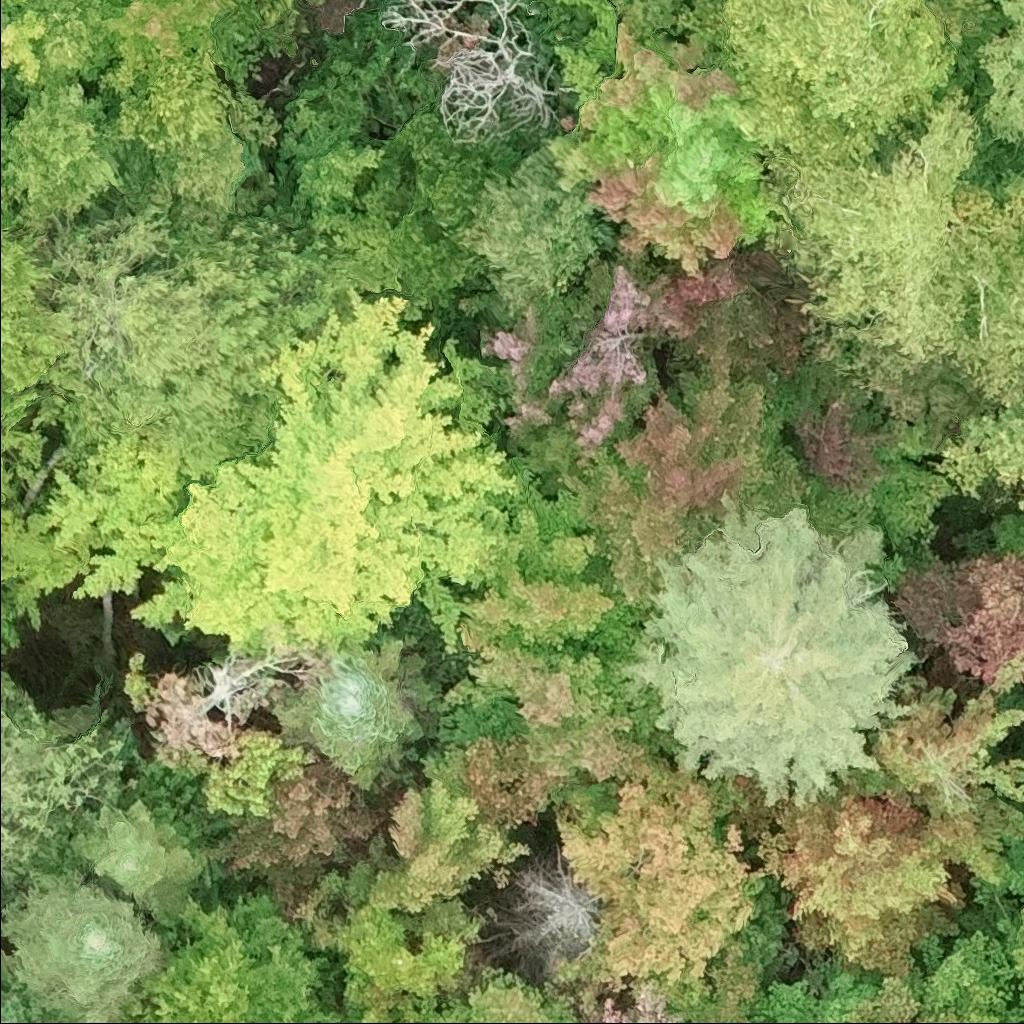crown: (47, 289, 580, 666), (616, 490, 922, 812), (21, 184, 327, 482), (761, 81, 1023, 374), (561, 306, 810, 613), (549, 752, 787, 1023), (542, 18, 773, 278), (475, 251, 693, 470), (690, 0, 959, 168), (757, 771, 969, 977), (358, 731, 556, 935), (438, 630, 665, 793), (92, 39, 281, 231), (863, 674, 1023, 888), (111, 884, 357, 1023), (206, 759, 411, 919), (0, 670, 145, 891), (458, 505, 652, 670), (457, 148, 621, 321), (0, 870, 163, 1023), (294, 632, 448, 792), (887, 545, 1023, 698), (0, 224, 79, 484), (0, 80, 126, 238), (62, 795, 210, 928), (813, 929, 1014, 1023), (0, 451, 93, 632), (941, 244, 1023, 408), (99, 0, 224, 98), (202, 730, 323, 820), (509, 842, 594, 968), (932, 404, 1023, 511), (434, 963, 588, 1023), (502, 416, 588, 495), (997, 839, 1023, 990), (0, 959, 61, 1023), (215, 0, 301, 40), (938, 0, 995, 38), (999, 176, 1023, 202), (0, 69, 7, 122)
